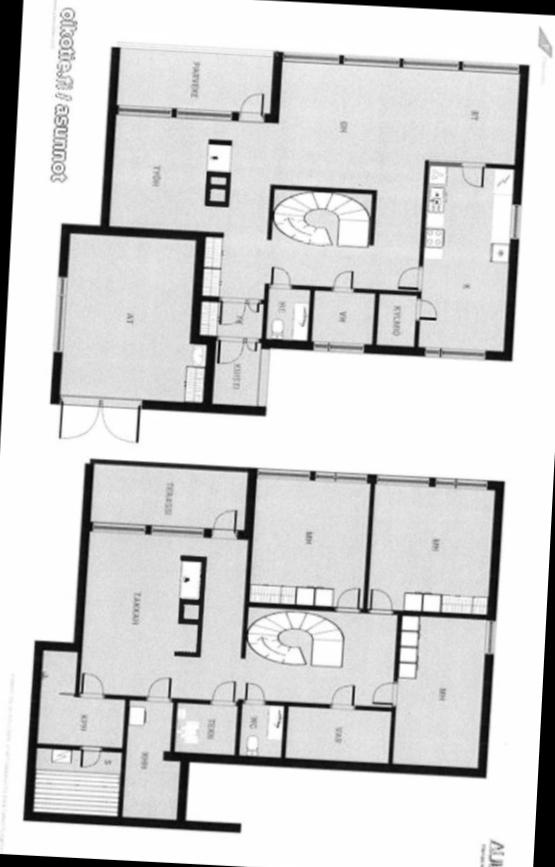door: (96, 394, 144, 446), (58, 392, 100, 440), (230, 87, 266, 122), (455, 160, 488, 195), (207, 504, 239, 539), (140, 672, 174, 702), (206, 674, 238, 704), (216, 292, 246, 324), (412, 292, 439, 327), (328, 680, 359, 710), (392, 262, 424, 290), (370, 680, 401, 708), (368, 588, 395, 618), (78, 669, 108, 695), (216, 334, 242, 364), (240, 676, 266, 705), (74, 741, 100, 770), (327, 267, 355, 293), (334, 584, 358, 612), (268, 262, 292, 288), (245, 330, 260, 352), (245, 291, 262, 309)
window: (279, 44, 346, 66), (368, 468, 438, 489), (170, 105, 242, 125), (251, 464, 316, 486), (308, 336, 371, 358), (426, 472, 495, 492), (453, 58, 528, 76), (251, 344, 271, 410), (112, 100, 178, 120), (338, 49, 403, 69), (86, 518, 150, 538), (418, 345, 492, 362), (503, 194, 526, 244), (142, 524, 211, 540), (395, 56, 462, 72), (312, 469, 372, 485), (484, 612, 499, 660)
